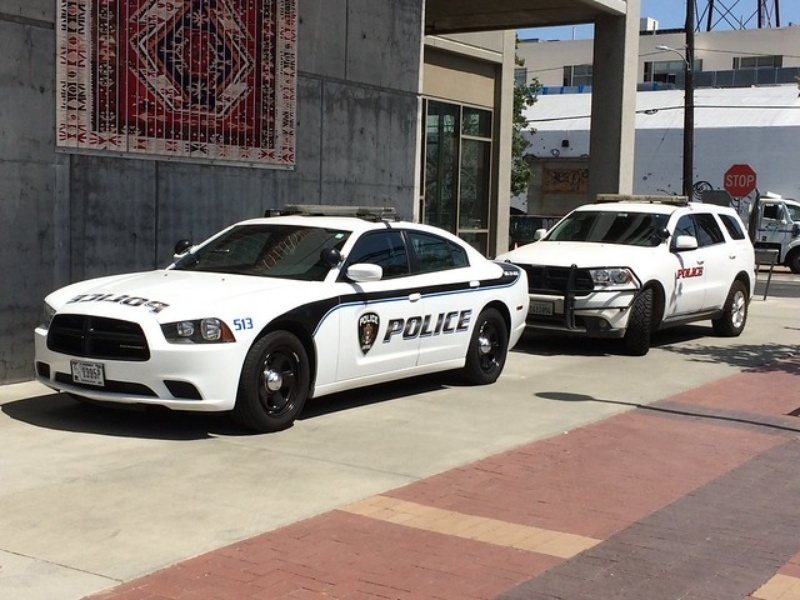policecar: (27, 166, 522, 408), (533, 169, 761, 351)
